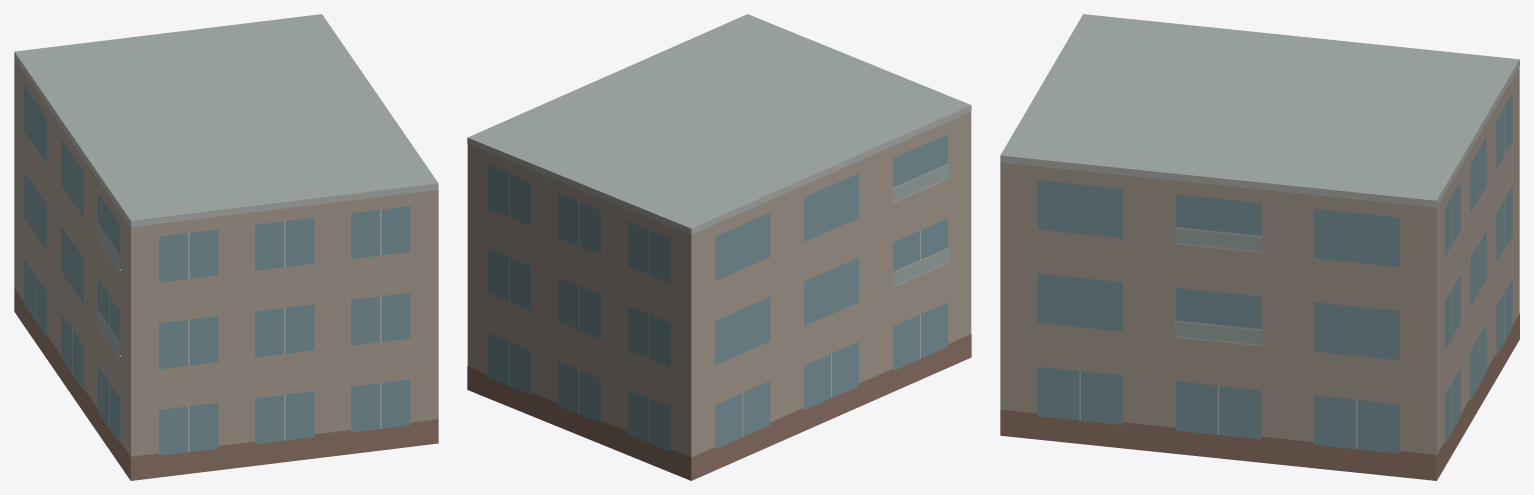
File: survey-upis-32830310.glb
3 renders of one model, left to right at view 1: azimuth 30°, elevation 25°; view 2: azimuth 150°, elevation 25°; view 3: azimuth 270°, elevation 25°, orthographic. The views are drawn at different scales.
Parts seen in each view (by area): view 1: survey-upis-32830310.tmp; view 2: survey-upis-32830310.tmp; view 3: survey-upis-32830310.tmp.
Part boxes in pixels (x1,y1,x2,y2): survey-upis-32830310.tmp: (14, 14, 438, 480); survey-upis-32830310.tmp: (467, 14, 971, 480); survey-upis-32830310.tmp: (1000, 14, 1519, 480).
Size of the model in its own units: 14.03 by 9.8 by 16.49.
